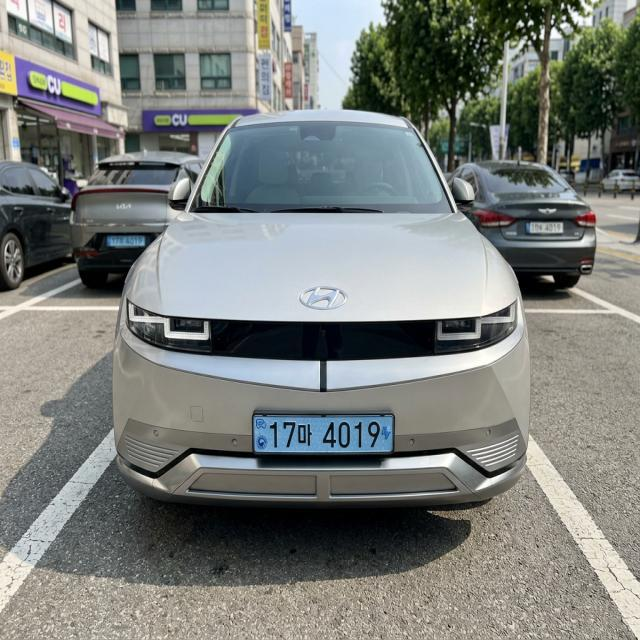car: (225, 404, 428, 467), (100, 227, 147, 253)
carev: (254, 407, 270, 457), (380, 415, 396, 458), (105, 232, 111, 252), (143, 230, 148, 250)
